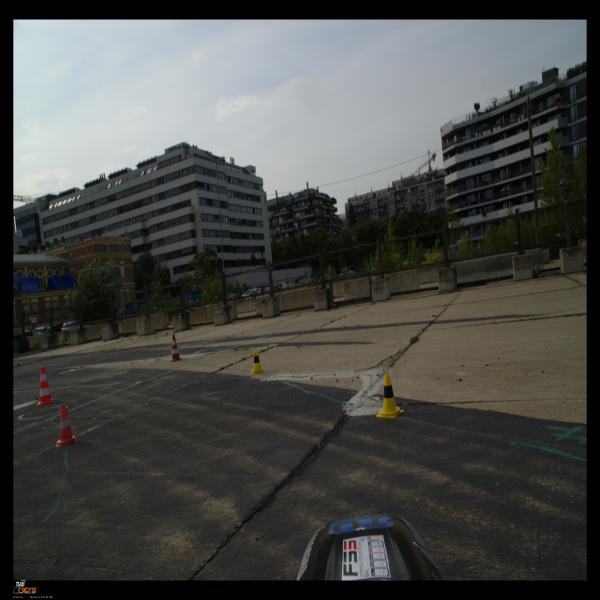large_orange_cone: (36, 366, 54, 406), (169, 334, 183, 362)
orange_cone: (56, 404, 77, 447)
yellow_cone: (376, 372, 404, 418), (250, 348, 265, 374)
